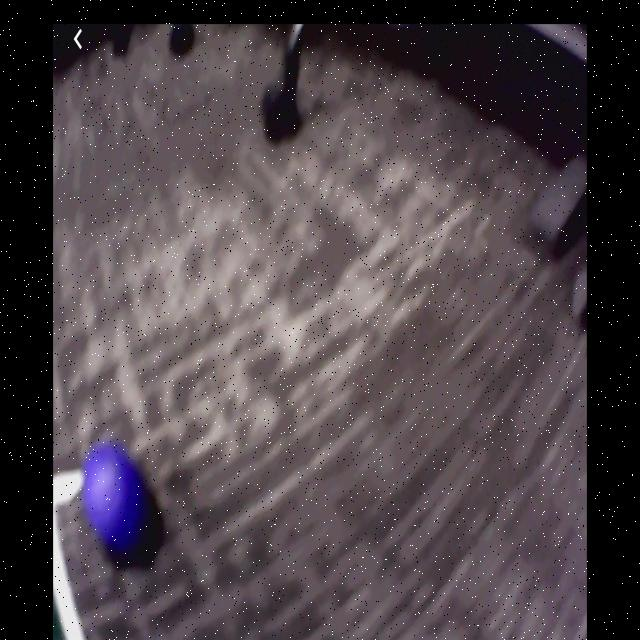ball: (84, 442, 144, 555)
